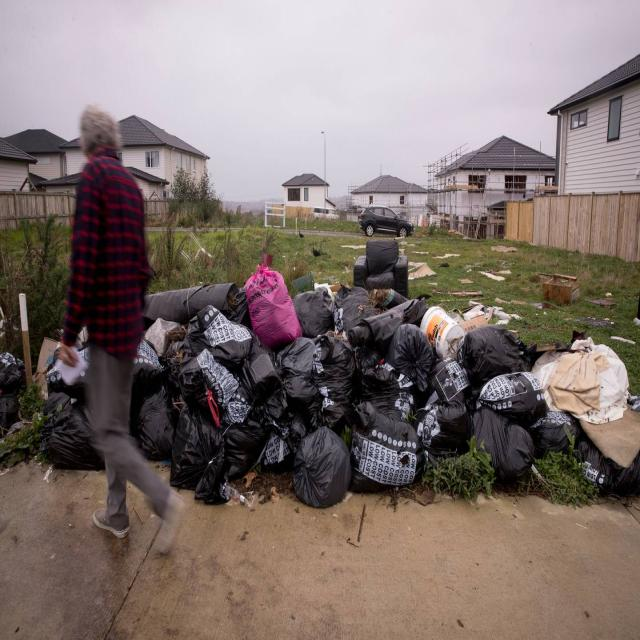dumping: (164, 257, 633, 516)
